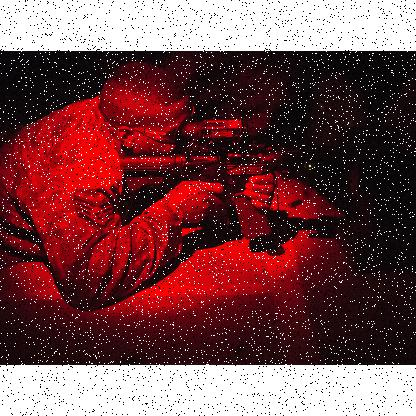gun: (72, 122, 316, 240)
